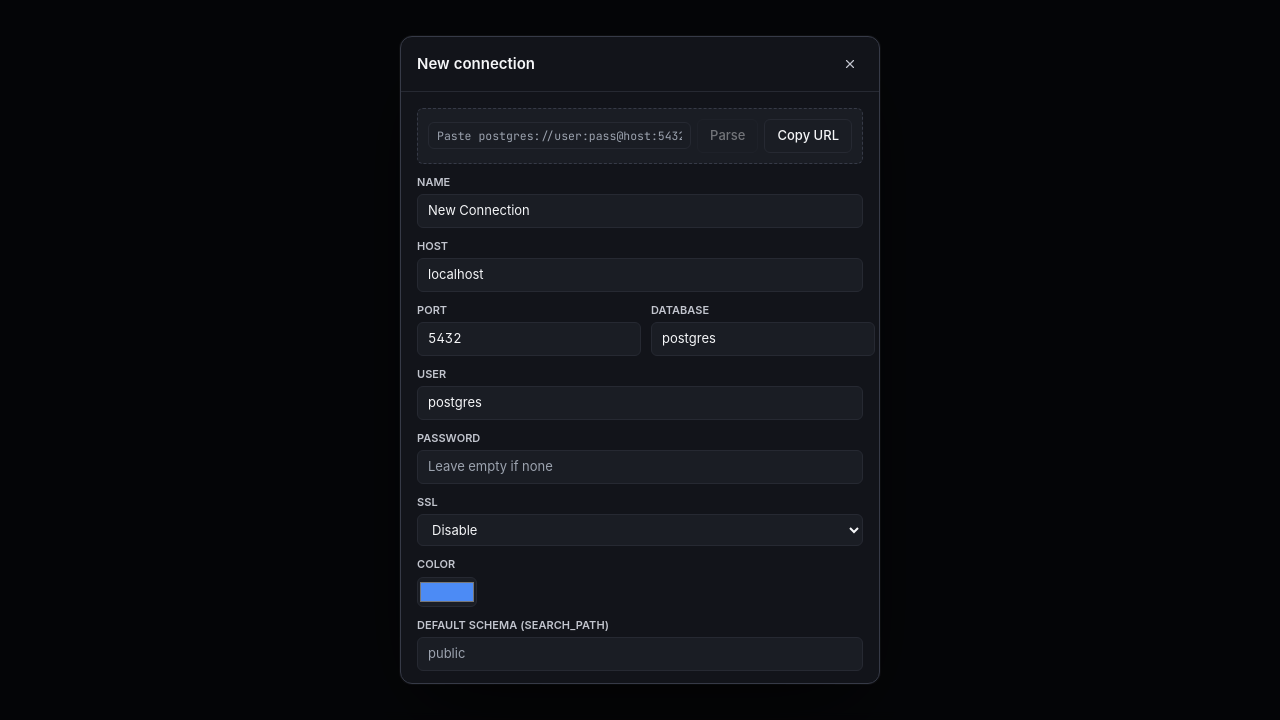
Test case: <ConnectionForm> URL parser › flips SSL to require when ?sslmode=require is set
This screenshot has width=1280, height=720.
Type "postgres://u@h/db?sslmode=require" into the field with placeholder "Paste postgres://user:pass@host:5432/db?sslmode=require" at (560, 136), box [428, 122, 691, 149]
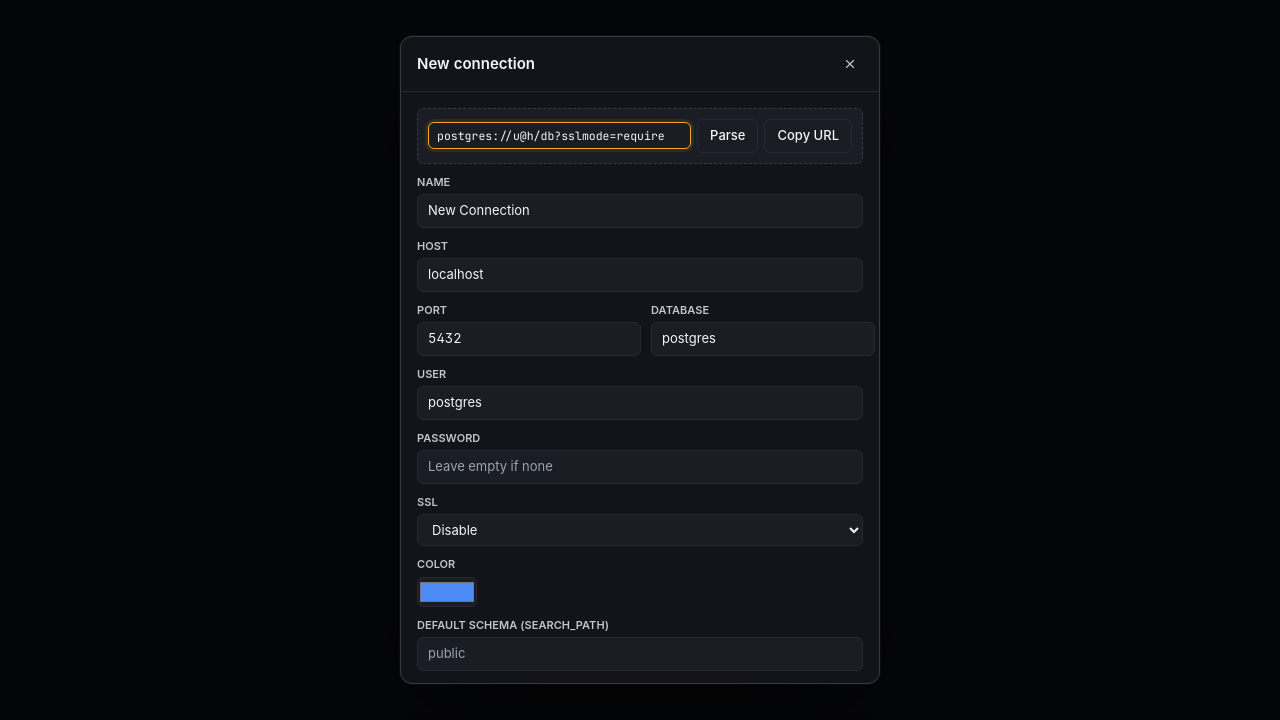
Click the button "Parse" at (728, 136), box [697, 119, 758, 152]
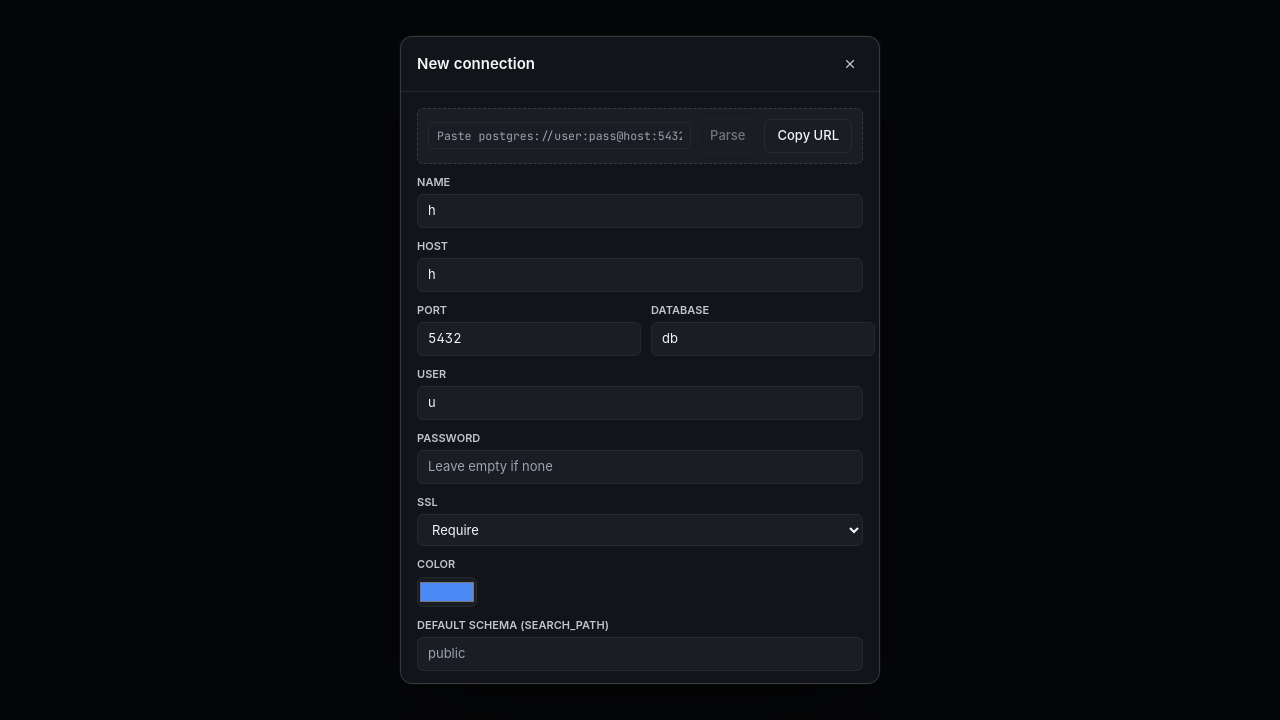
Expected: the dropdown labelled "SSL" shows "Require", [417, 514, 863, 546]
